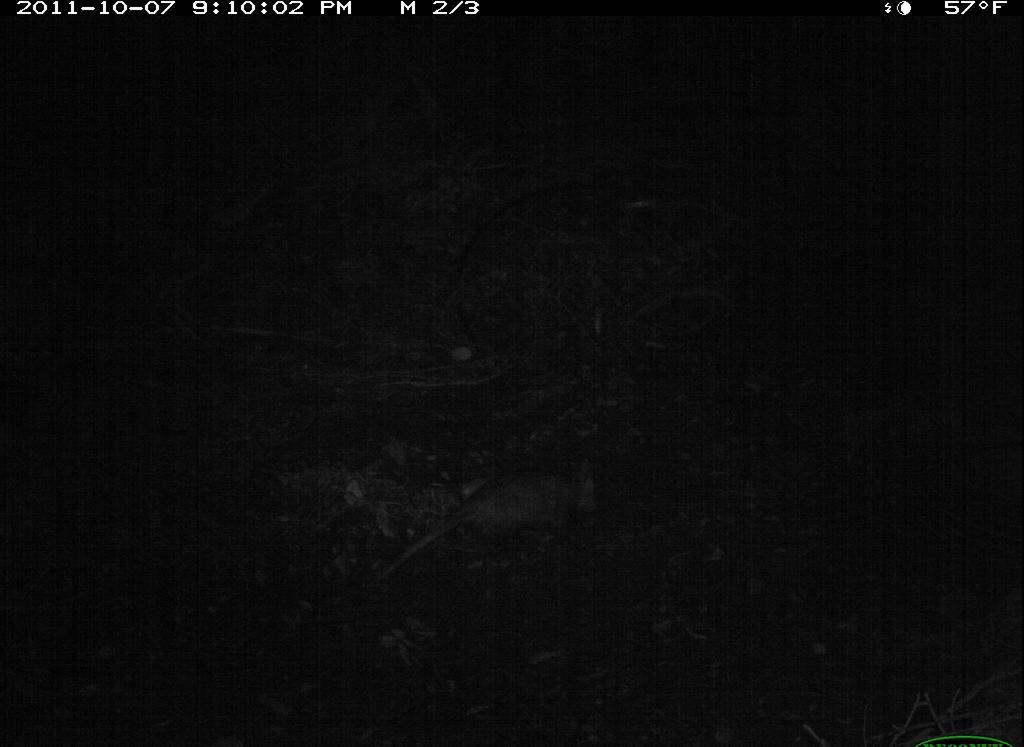opossum: (355, 450, 607, 602)
